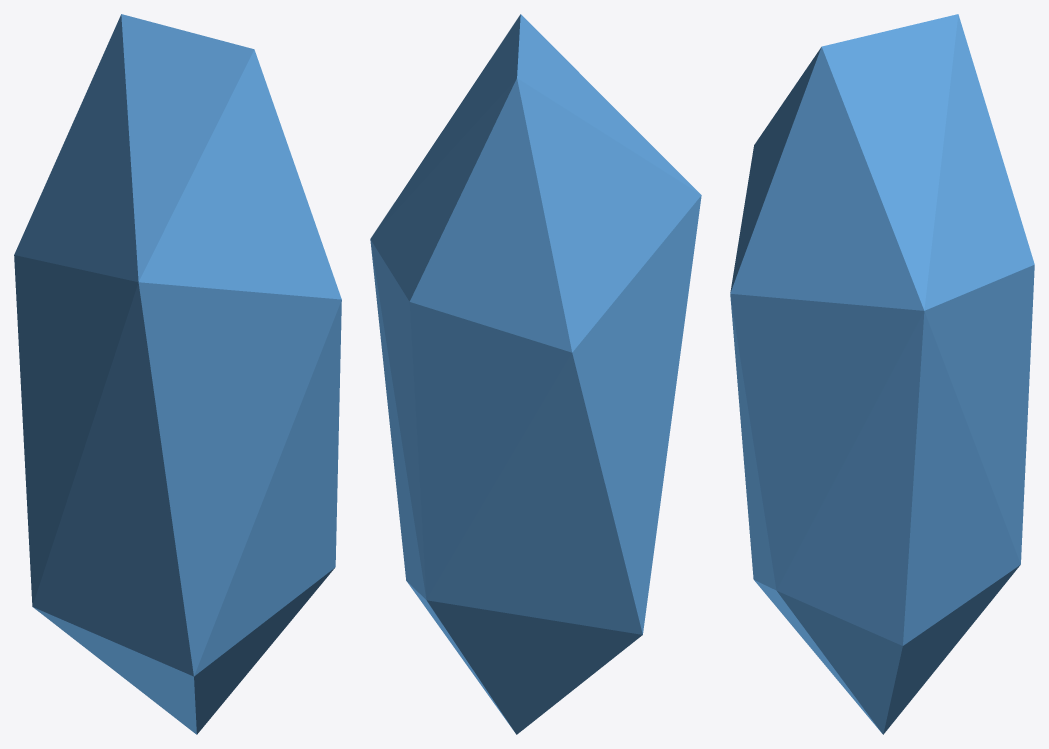
Rendered from cristal2.fbx.
3 views of the same model, side by side, from view 1: azimuth 30°, elevation 25°; view 2: azimuth 150°, elevation 25°; view 3: azimuth 270°, elevation 25° (orthographic).
Parts seen in each view (by area): view 1: cristal2; view 2: cristal2; view 3: cristal2.
Part boxes in pixels (x1=…): cristal2: x1=14, y1=14, x2=341, y2=734; cristal2: x1=370, y1=14, x2=701, y2=734; cristal2: x1=730, y1=14, x2=1034, y2=734.
Bounding box in the file's own units: 180 × 441 × 173.
